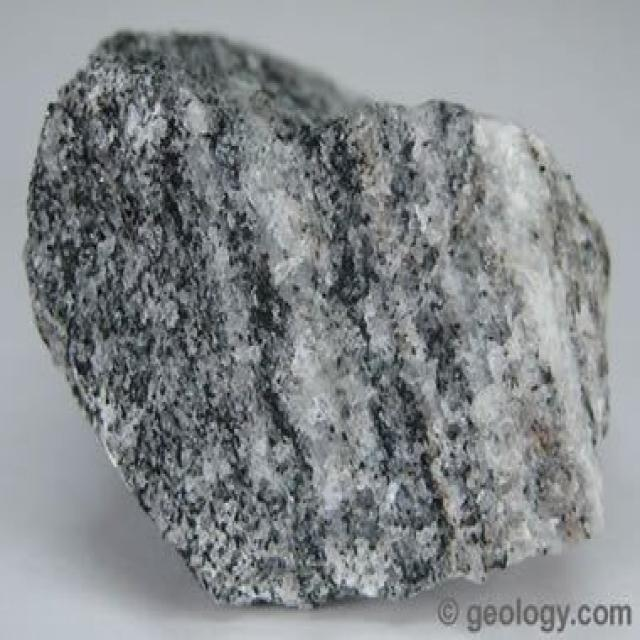Metamorphic: (22, 27, 610, 591)
